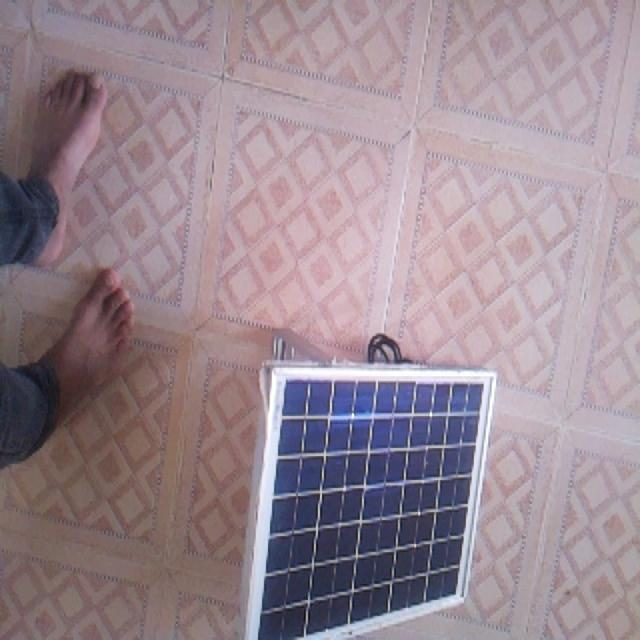Normal Solar Panel: (246, 365, 495, 640)
